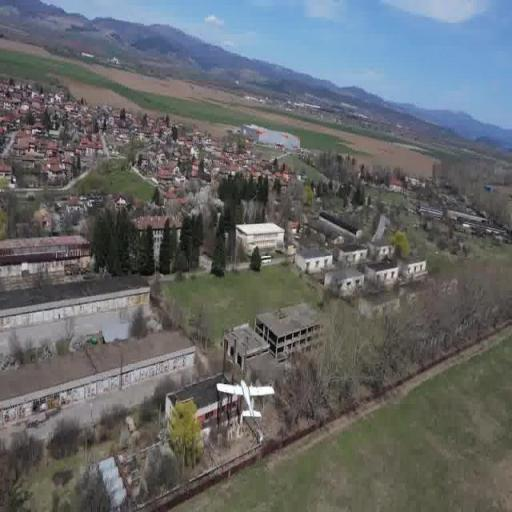uav: (218, 374, 276, 422)
